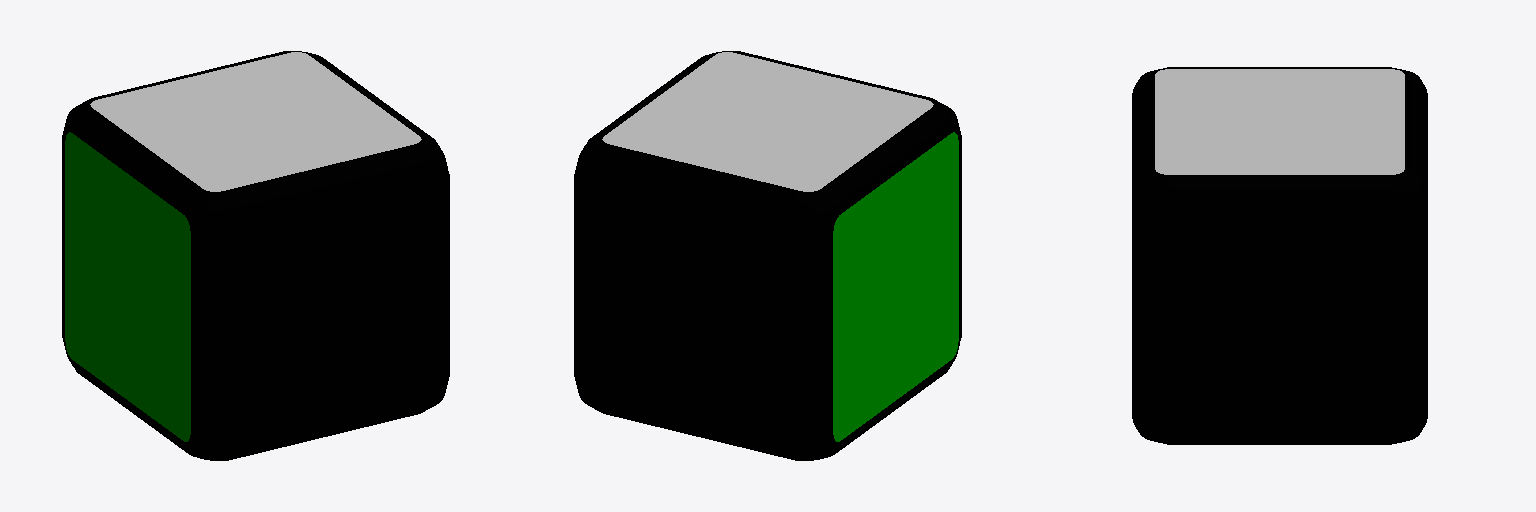
Rendered from edge_gw.obj.
3 views of the same model, side by side, from view 1: azimuth 30°, elevation 25°; view 2: azimuth 150°, elevation 25°; view 3: azimuth 270°, elevation 25° (orthographic).
Parts seen in each view (by area): view 1: Cube; view 2: Cube; view 3: Cube.
Boxes of the visible parts, x1=… form: Cube: x1=62, y1=51, x2=449, y2=460; Cube: x1=574, y1=51, x2=961, y2=460; Cube: x1=1132, y1=67, x2=1427, y2=444.
Size of the model in its own units: 2 by 2 by 2.